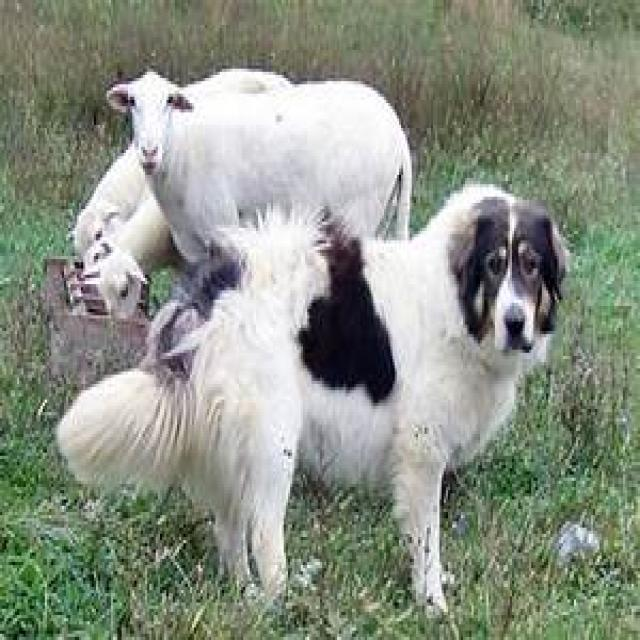animal: (70, 188, 574, 607), (109, 65, 415, 270)
